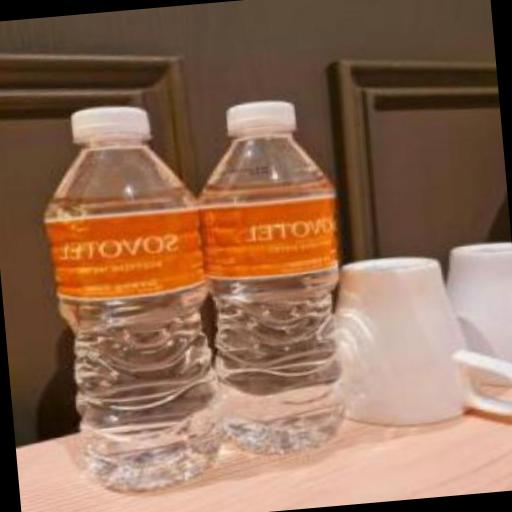Coca: (31, 92, 242, 506), (174, 86, 366, 472)
